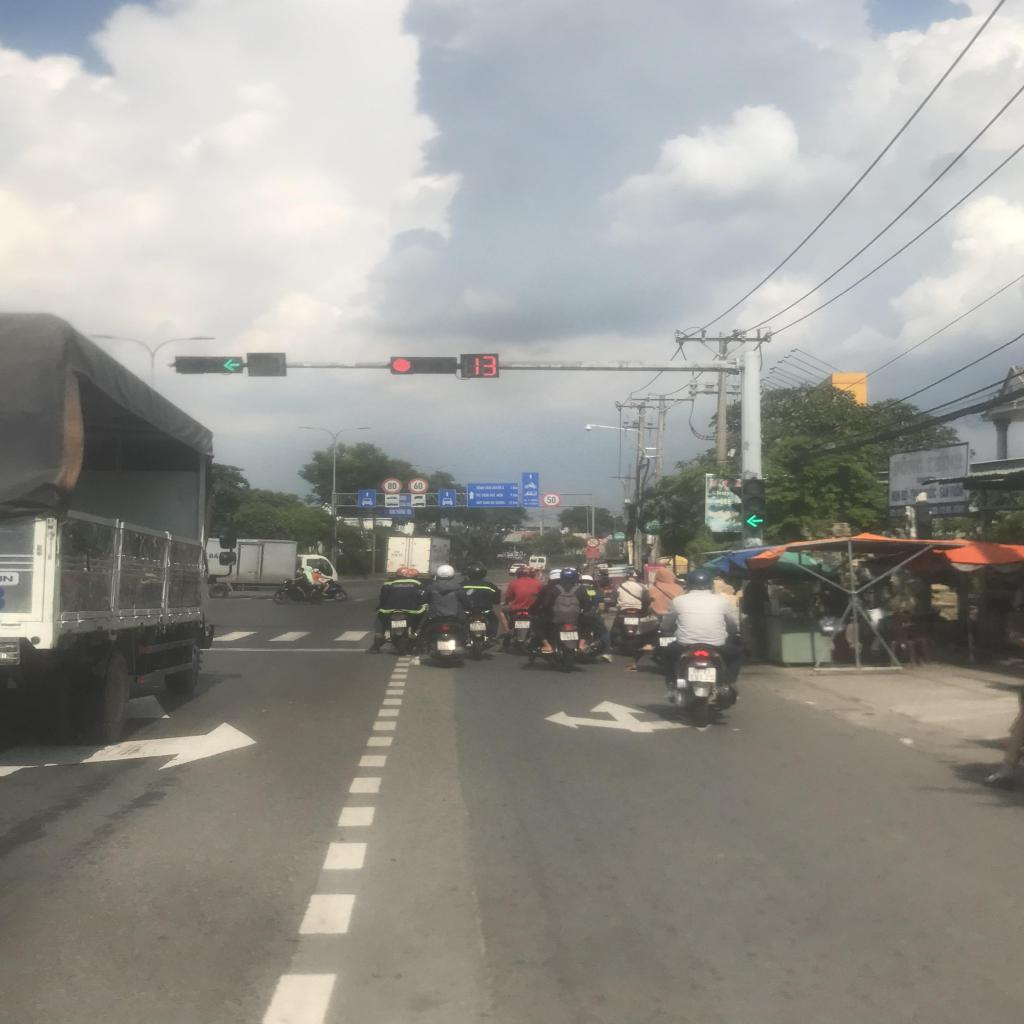cam_cac_loai_xe_3_banh: (586, 537, 600, 548)
duong_cho_xe_o_to: (358, 490, 377, 507), (439, 489, 456, 507)
khac: (467, 483, 518, 507), (522, 472, 539, 508), (410, 494, 426, 501), (385, 501, 399, 508), (385, 494, 400, 500), (411, 501, 425, 507)
toc_do_toi_da_50: (541, 493, 562, 507)
toc_do_toi_da_60: (407, 478, 429, 494)
toc_do_toi_da_80: (382, 478, 402, 494)
